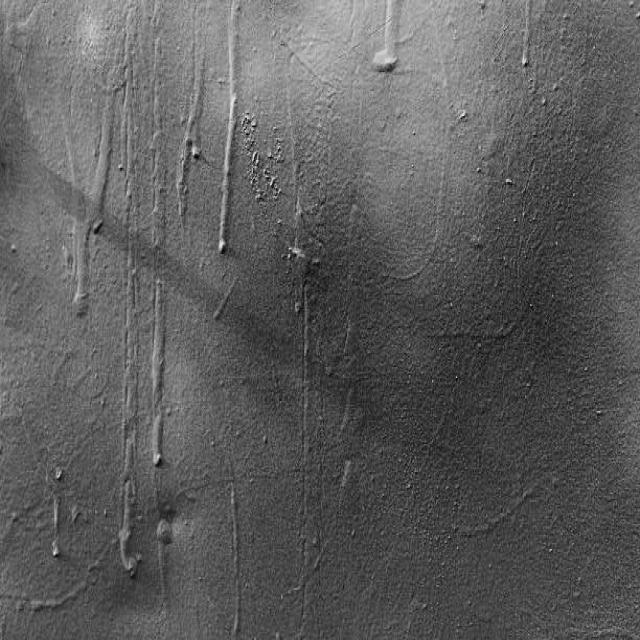paint drips: (48, 0, 246, 640), (354, 0, 411, 94), (514, 0, 535, 79)
